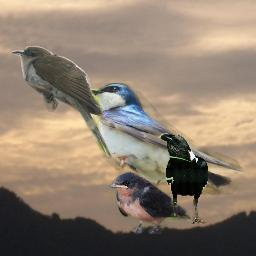Crow: (158, 133, 208, 224)
Cuckoo: (12, 46, 112, 160)
Swallow: (89, 83, 246, 200), (109, 171, 191, 234)
